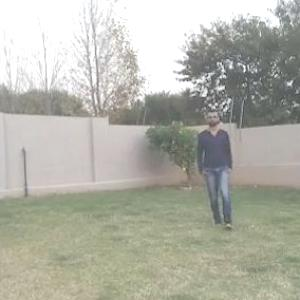follow: (205, 112, 233, 226)
